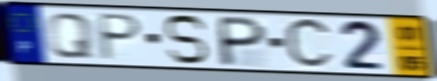2: (339, 17, 392, 75)
C: (282, 15, 336, 72)
P: (218, 15, 270, 68), (97, 11, 145, 62)
Q: (44, 11, 95, 60)
S: (161, 13, 210, 66)
